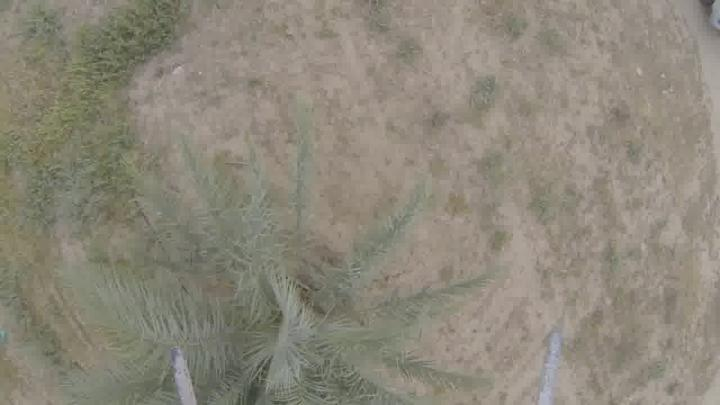Date-Palm-Crown: (151, 241, 376, 405)
